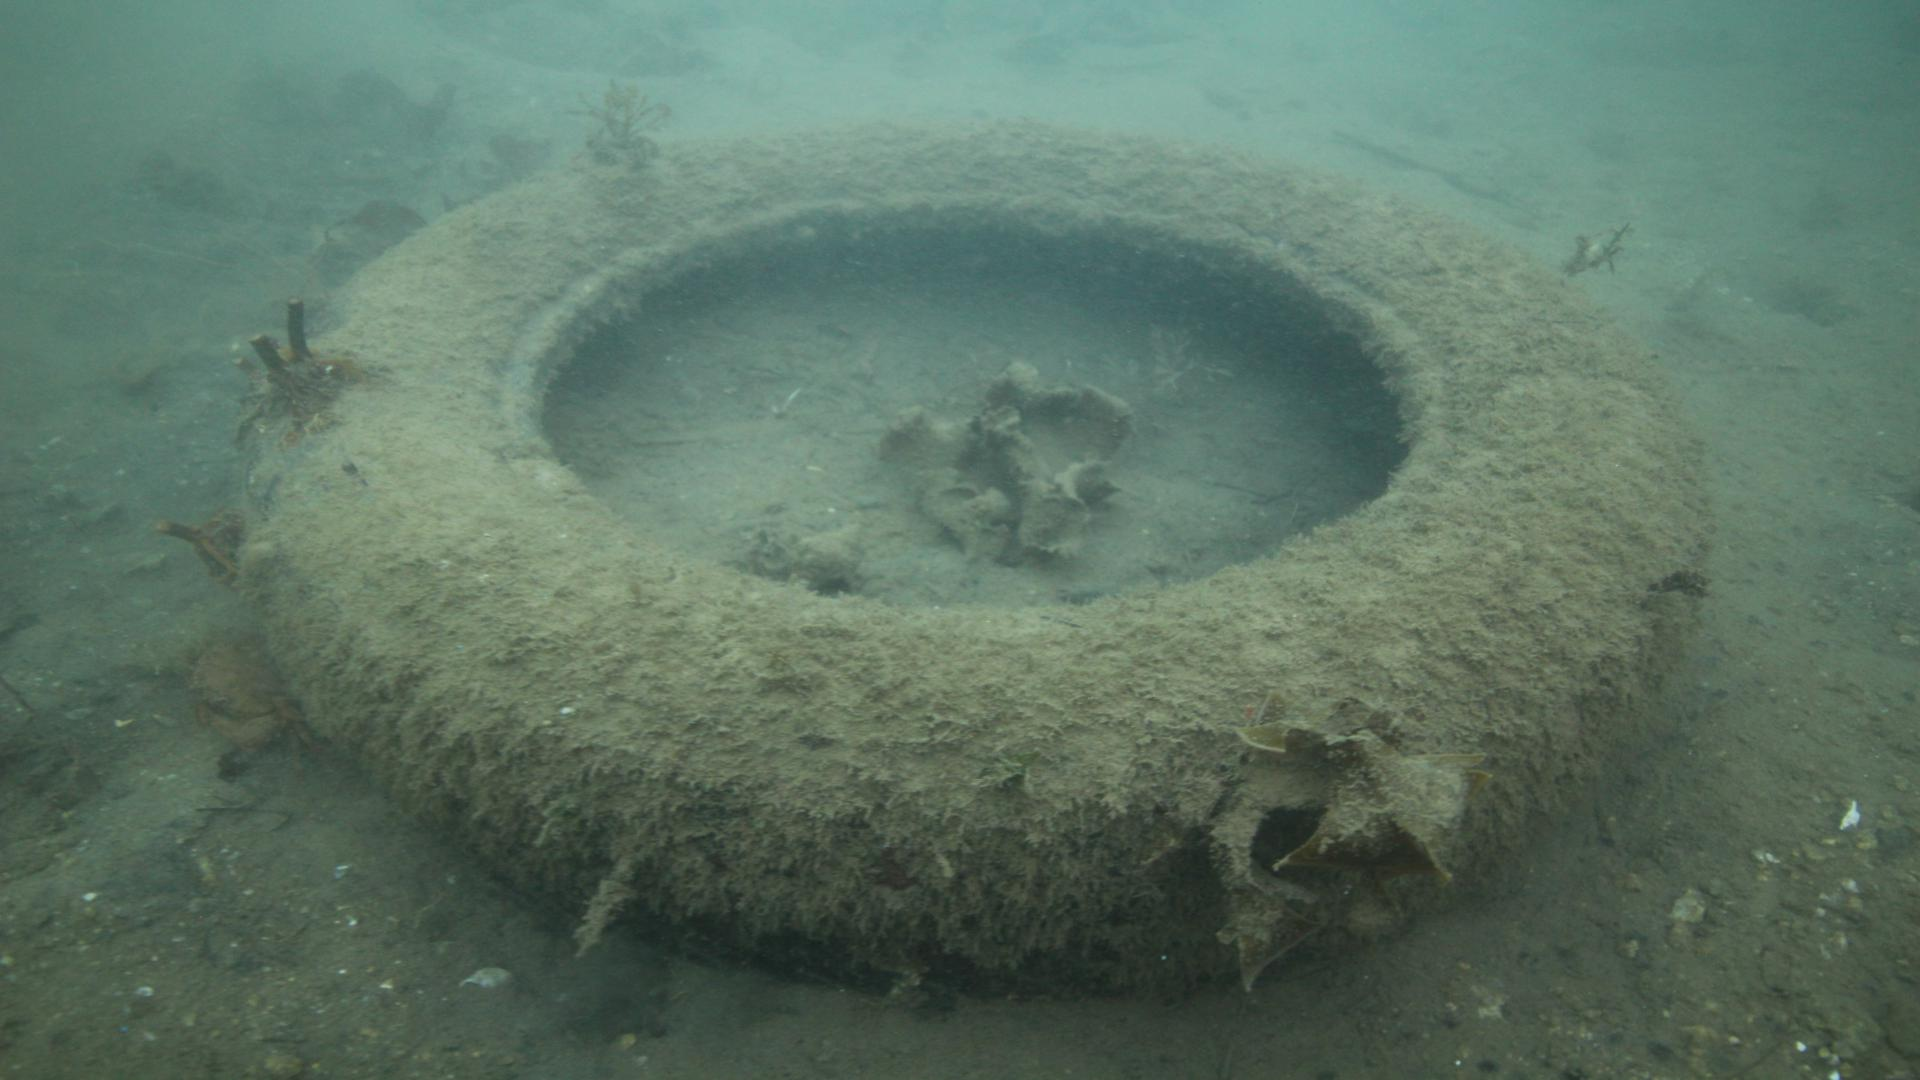tire: (241, 117, 1708, 1000)
